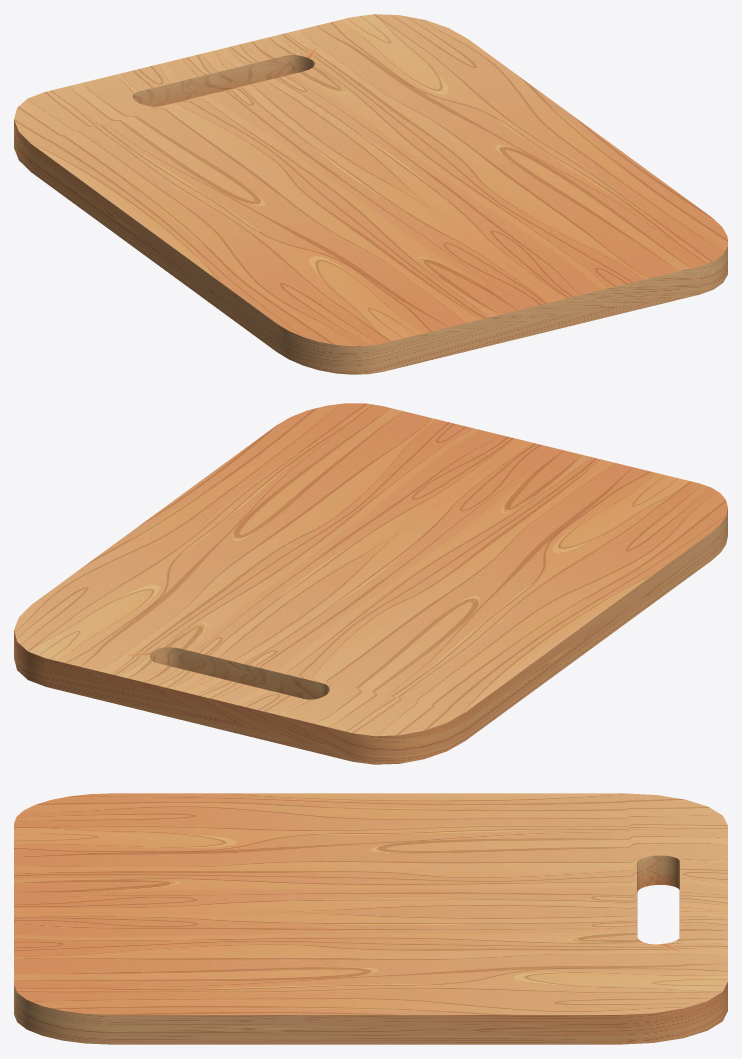
The model's file is CUTTING BOARD.fbx.
The picture shows the model from 3 angles, top to bottom: view 1: azimuth 30°, elevation 25°; view 2: azimuth 150°, elevation 25°; view 3: azimuth 270°, elevation 25°; orthographic projection. The views are drawn at different scales.
Parts seen in each view (by area): view 1: Cutting Board; view 2: Cutting Board; view 3: Cutting Board.
Boxes of the visible parts, x1,y1,x2,y2 form: Cutting Board: (14, 14, 727, 374); Cutting Board: (14, 403, 727, 764); Cutting Board: (14, 793, 727, 1044).
Size of the model in its own units: 113 by 7.06 by 154.
1 material, 1 textured.
